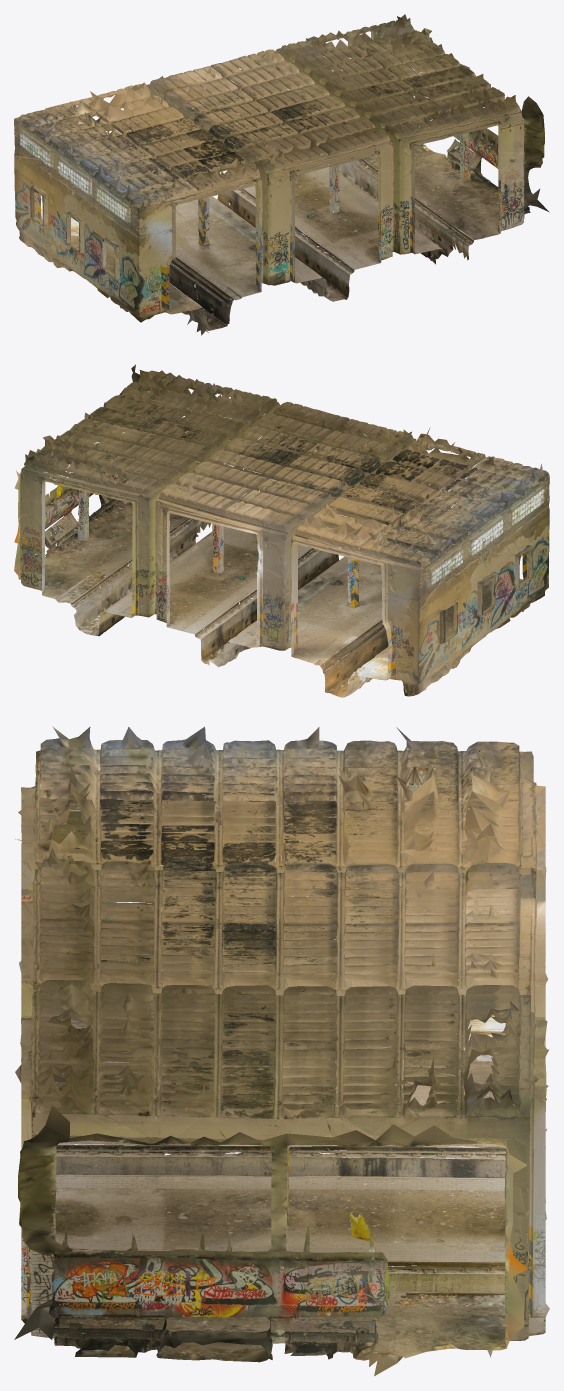
File: garage-decayed-concrete-train-shed.glb
3 renders of one model, top to bottom at view 1: azimuth 30°, elevation 25°; view 2: azimuth 150°, elevation 25°; view 3: azimuth 270°, elevation 25°, orthographic. The views are drawn at different scales.
Visible parts, largest first — view 1: depo; view 2: depo; view 3: depo.
Boxes of the visible parts, left/top/right/bottom form: depo: left=14, top=14, right=549, bottom=335; depo: left=14, top=364, right=549, bottom=697; depo: left=14, top=726, right=549, bottom=1376.
Bounding box in the file's own units: 18.24 × 6.59 × 10.35.
8 materials, 8 textured.
